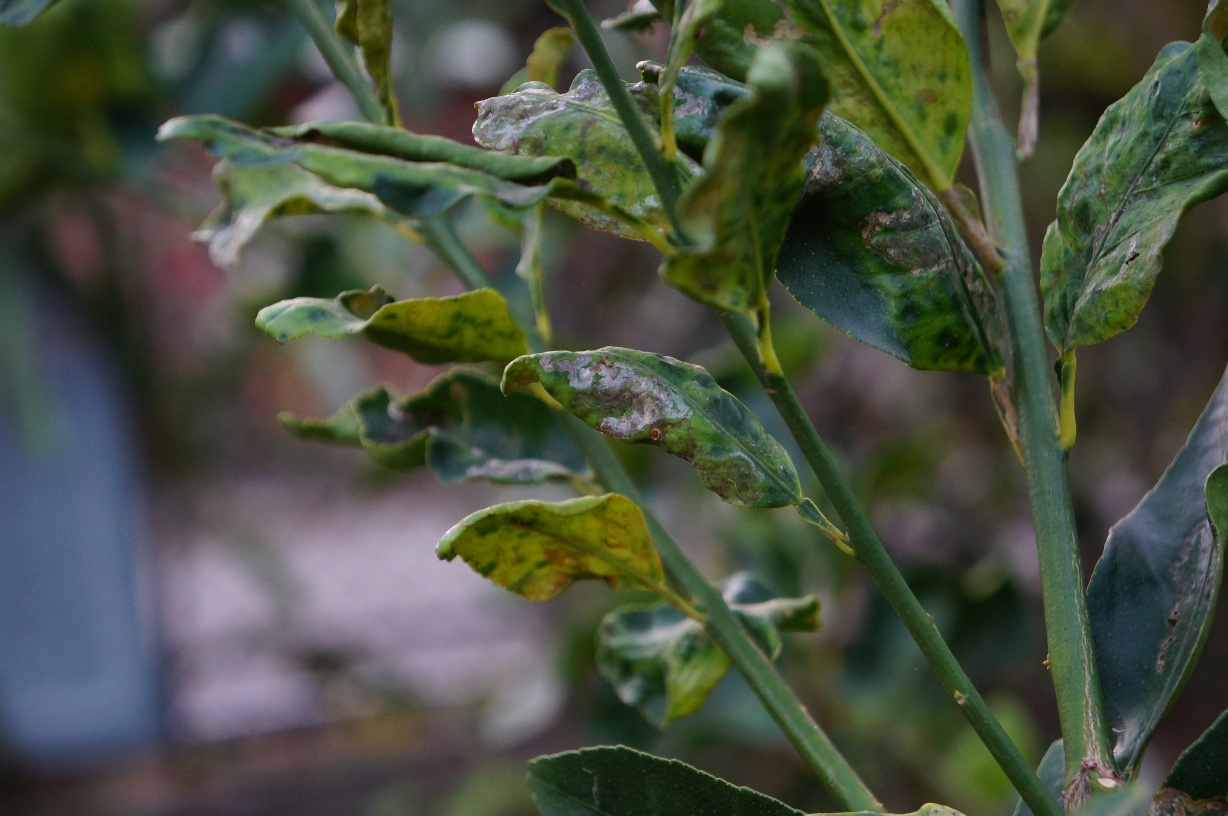curly: (490, 330, 813, 513)
damage: (1037, 26, 1228, 368), (489, 337, 817, 516), (853, 200, 1001, 392), (467, 64, 630, 164)
